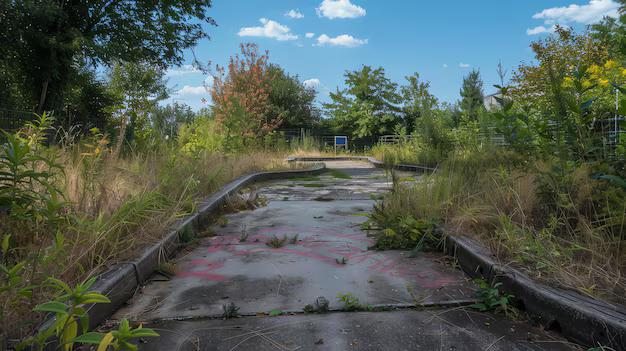graffiti: (201, 231, 468, 287)
overgrown grass: (0, 128, 311, 333), (444, 53, 625, 304), (263, 130, 478, 167), (374, 174, 444, 247), (472, 282, 507, 310), (266, 232, 299, 248), (222, 303, 240, 321)
